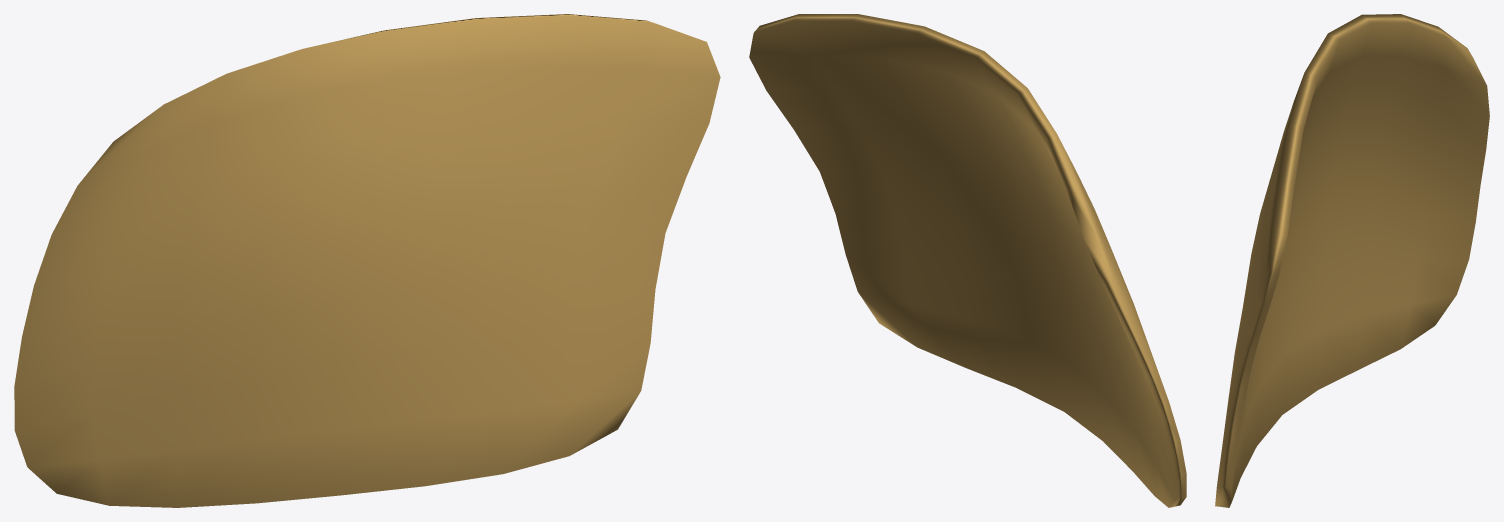
3 views of the same model, side by side, from view 1: azimuth 30°, elevation 25°; view 2: azimuth 150°, elevation 25°; view 3: azimuth 270°, elevation 25° (orthographic). The views are drawn at different scales.
Visible parts, largest first — view 1: 右侧肩锁韧带; view 2: 右侧肩锁韧带; view 3: 右侧肩锁韧带.
Boxes of the visible parts, box(x1,y1,x2,y2) form: 右侧肩锁韧带: box(14, 14, 720, 507); 右侧肩锁韧带: box(749, 14, 1186, 507); 右侧肩锁韧带: box(1215, 14, 1489, 507).
Bounding box in the file's own units: 0.0348 × 0.0241 × 0.014.
